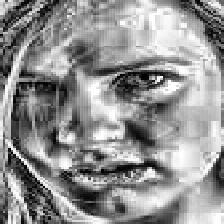angry: (9, 13, 224, 224)
